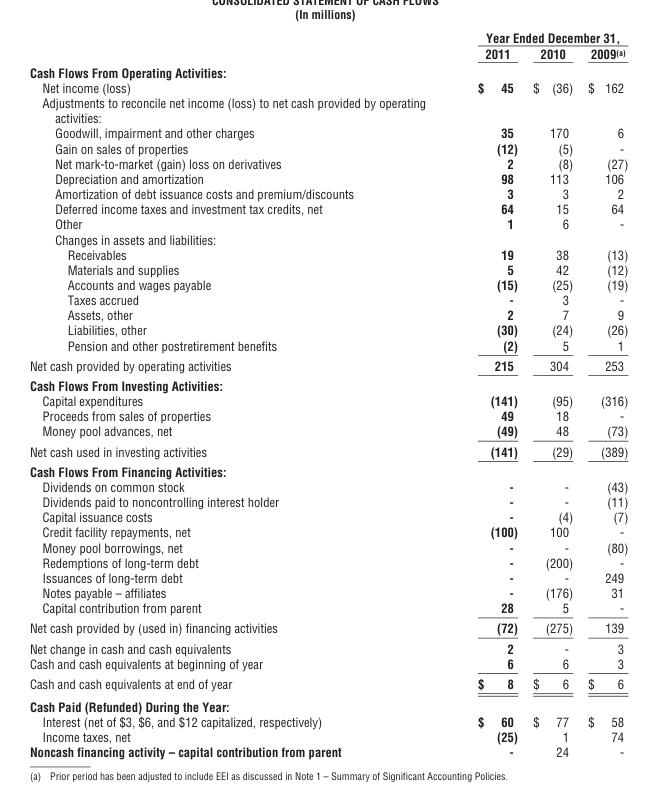table: (28, 28, 627, 759)
table column: (28, 28, 415, 759), (415, 28, 524, 759), (524, 28, 579, 759), (579, 28, 627, 759)
table column header: (28, 28, 627, 62)
table projected row header: (28, 94, 627, 125), (28, 694, 627, 713), (28, 62, 627, 79), (28, 375, 627, 392), (28, 461, 627, 478), (28, 231, 627, 246)
table row: (28, 94, 627, 125), (28, 440, 627, 461), (28, 673, 627, 694), (28, 355, 627, 375), (28, 617, 627, 637), (28, 694, 627, 713), (28, 337, 627, 355), (28, 599, 627, 617), (28, 637, 627, 655), (28, 655, 627, 673), (28, 28, 627, 45), (28, 45, 627, 62), (28, 62, 627, 79), (28, 375, 627, 392), (28, 423, 627, 440), (28, 461, 627, 478), (28, 200, 627, 216), (28, 291, 627, 307), (28, 392, 627, 408), (28, 493, 627, 509), (28, 743, 627, 759), (28, 79, 627, 94), (28, 125, 627, 140), (28, 140, 627, 155), (28, 155, 627, 170), (28, 170, 627, 185), (28, 185, 627, 200), (28, 216, 627, 231), (28, 231, 627, 246), (28, 246, 627, 261), (28, 261, 627, 276), (28, 276, 627, 291), (28, 307, 627, 322), (28, 322, 627, 337), (28, 408, 627, 423), (28, 478, 627, 493), (28, 509, 627, 524), (28, 524, 627, 539), (28, 539, 627, 554), (28, 554, 627, 569), (28, 569, 627, 584), (28, 584, 627, 599), (28, 713, 627, 728), (28, 728, 627, 743)
table spanning cell: (415, 28, 627, 45)
